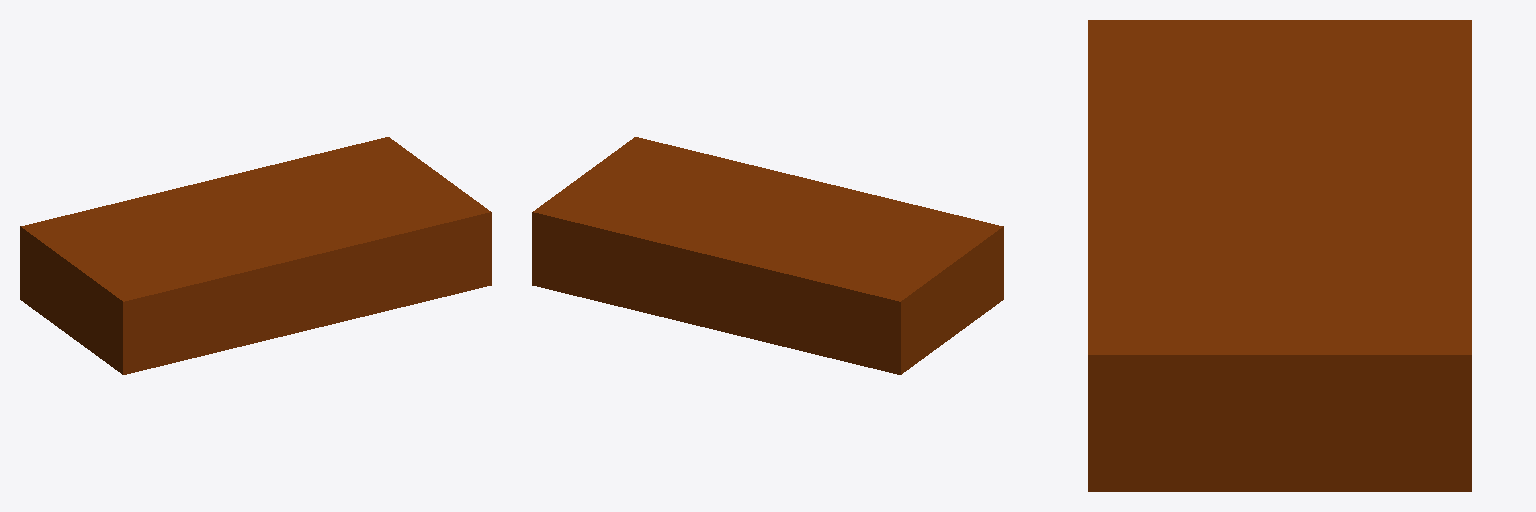
URDF robot description (handle_head):
<?xml version="1.0"?>
<robot name="handle_head">

  <link name="handle_head">
    <!-- Handle -->
    <visual>
      <origin xyz="0 0 0" rpy="0 0 0"/>
      <geometry>
        <box size="0.11699551433094829 0.05667505760774008 0.022320523723096636"/>
      </geometry>
      <material name="brown">
        <color rgba="0.55 0.27 0.07 1.0"/>
      </material>
    </visual>
    <collision>
      <origin xyz="0 0 0" rpy="0 0 0"/>
      <geometry>
        <box size="0.11699551433094829 0.05667505760774008 0.022320523723096636"/>
      </geometry>
    </collision>

    <inertial>
      <origin xyz="0 0 0" rpy="0 0 0"/>
      <mass value="0.07247989918717054"/>
      <inertia ixx="2.2409987151831044e-05" iyy="8.568426398425373e-05" izz="0.00010207593369338545" ixy="0" ixz="0" iyz="0"/>
    </inertial>
  </link>

</robot>

--- What the picture shows (computed from the rendered views, not written in the file) ---
The picture shows the robot from 3 angles, left to right: view 1: azimuth 30°, elevation 25°; view 2: azimuth 150°, elevation 25°; view 3: azimuth 270°, elevation 25°; orthographic projection.
Model handle_head with 1 links and 0 joints (none), rooted at handle_head, posed all joints at 0.
Visible links, largest first — view 1: handle_head; view 2: handle_head; view 3: handle_head.
Boxes of the visible links, <box> form: handle_head: <box>20,137,491,374</box>; handle_head: <box>532,137,1003,374</box>; handle_head: <box>1088,20,1471,491</box>.
Bounding box of the posed robot: 0.117 × 0.0567 × 0.0223 m (x, y, z).
Geometry: primitives only (box / cylinder / sphere), no mesh files.
